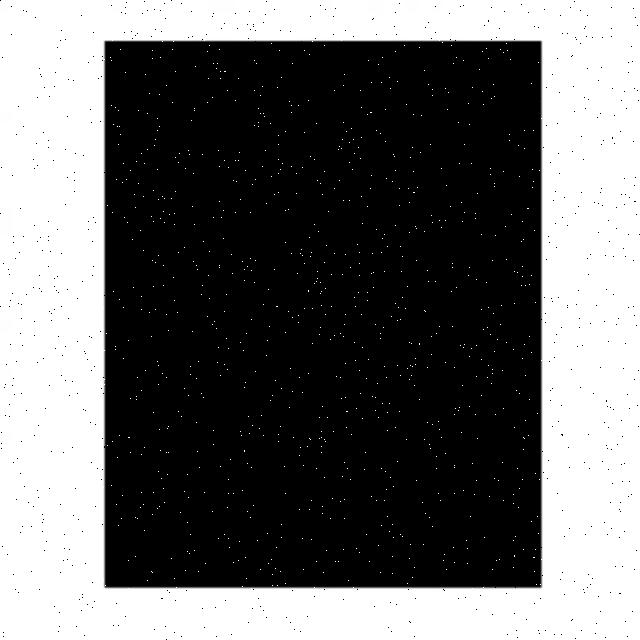Ham: (105, 40, 541, 588)
